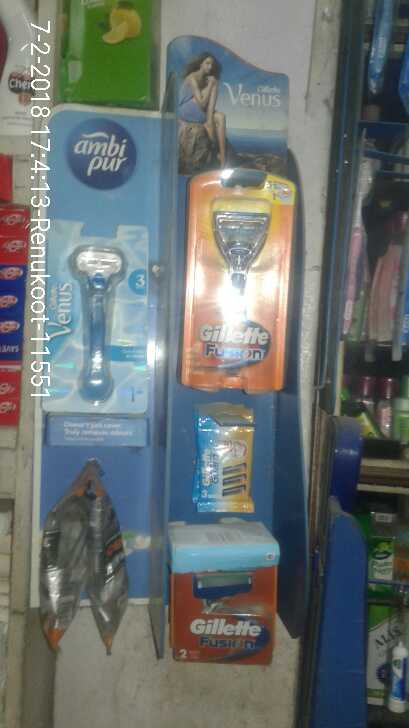beauty: (185, 170, 292, 398), (44, 220, 152, 417), (172, 565, 271, 667), (193, 399, 258, 517)
